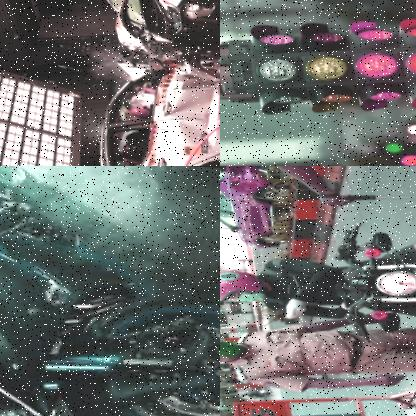bike: (0, 166, 220, 416), (329, 206, 416, 347)
car: (86, 32, 220, 166), (74, 0, 220, 62)
